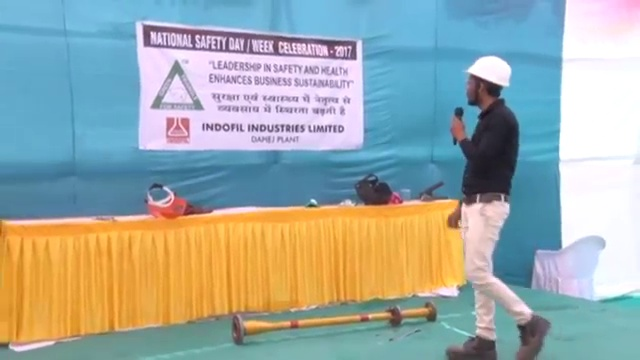helmet: (463, 56, 513, 89)
helmet_on: (461, 54, 514, 107)
person: (446, 53, 546, 360)
